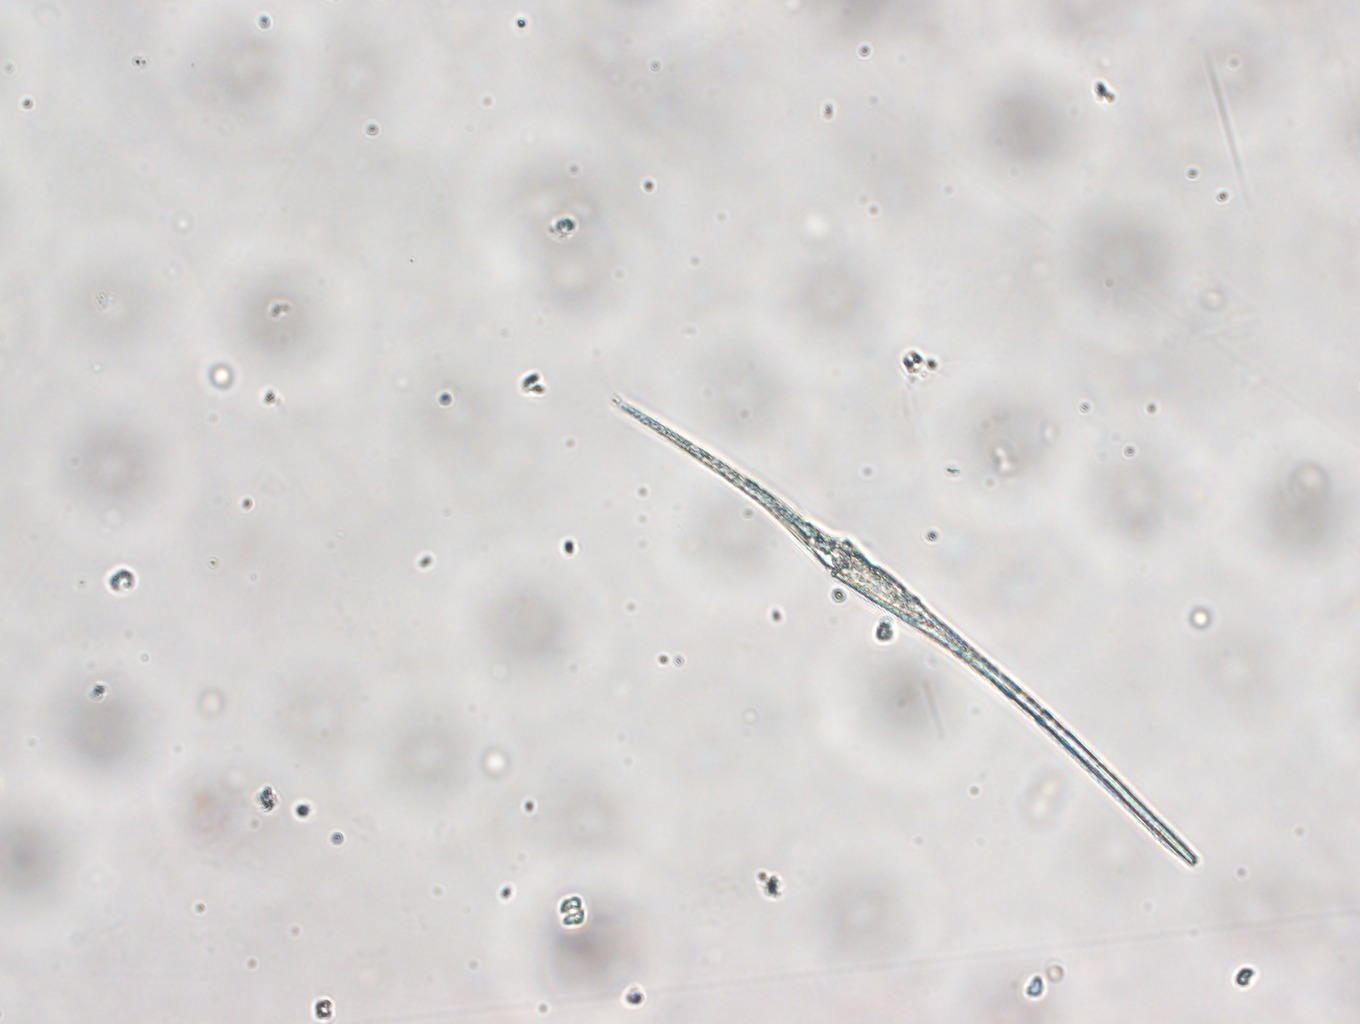ceratium fusus: (607, 390, 1204, 868)
